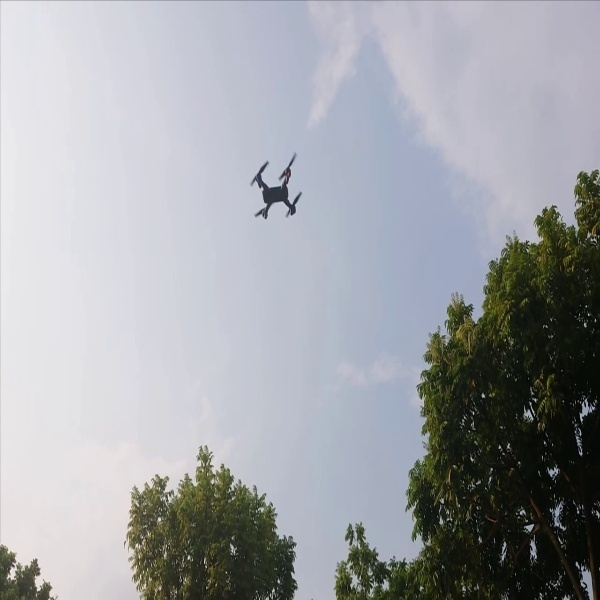drone: (246, 150, 310, 224)
